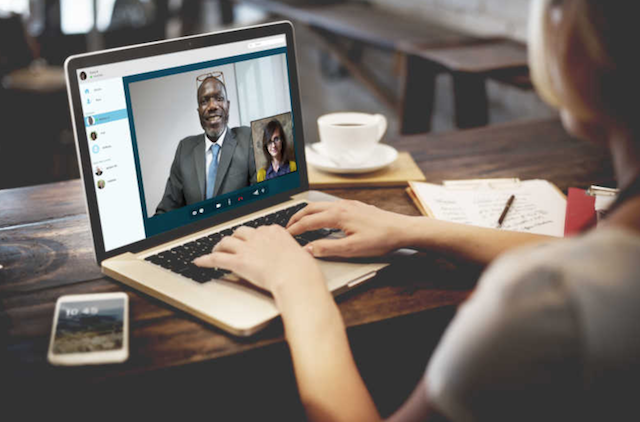computer: (60, 12, 390, 337)
phone: (39, 285, 141, 372)
